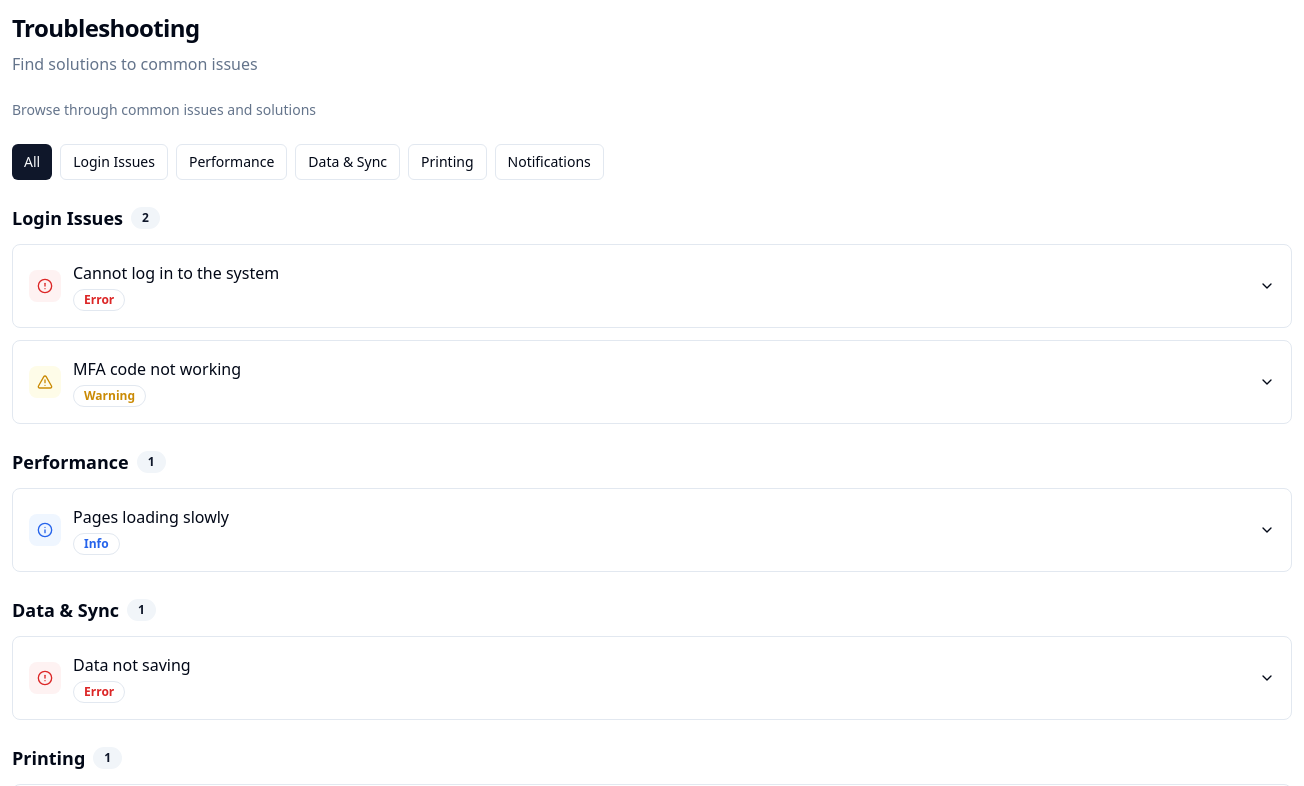
Test: TroubleshootingSection › Accordion Behavior › expands item to show solutions when clicked
Click the text "Cannot log in to the system" at coordinates (176, 273), box x1=73 y1=261 x2=279 y2=285
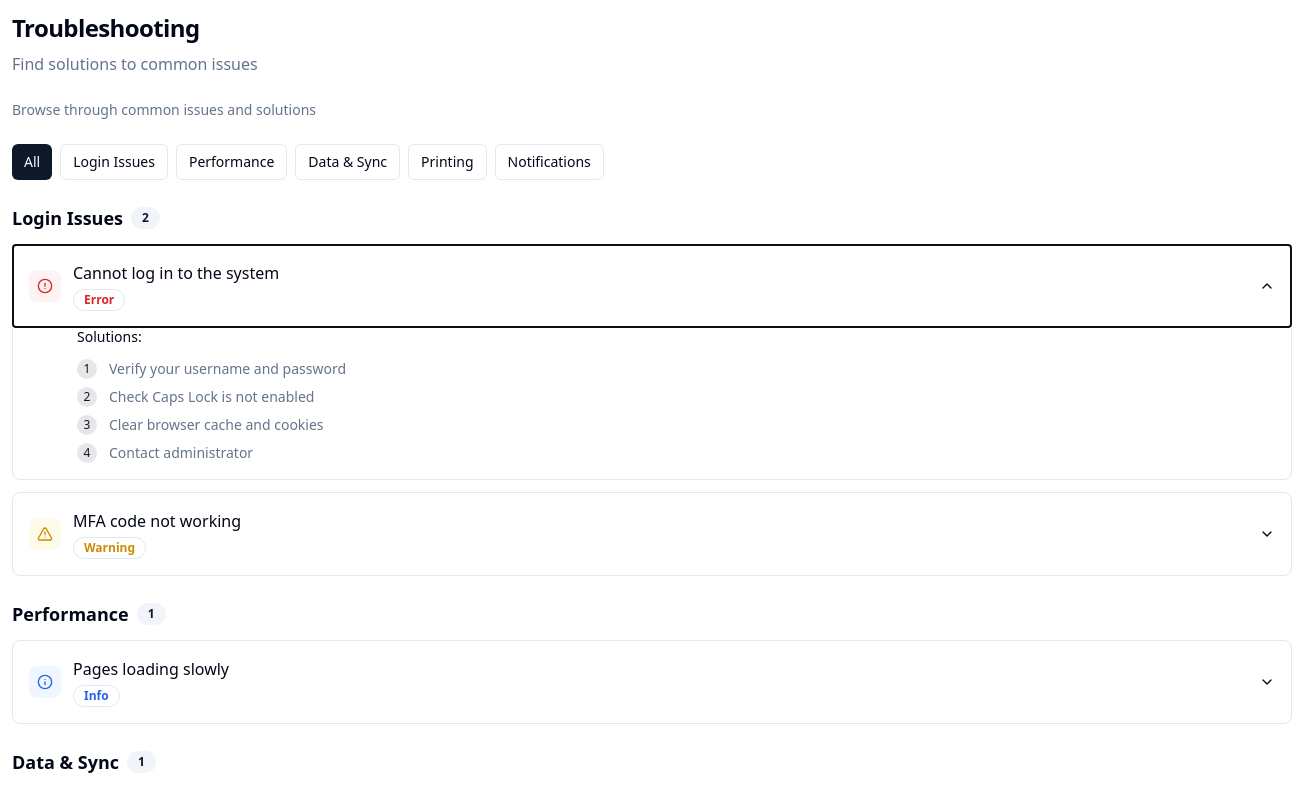
Check: the text "Verify your username and password" is shown, box x1=109 y1=359 x2=346 y2=379
